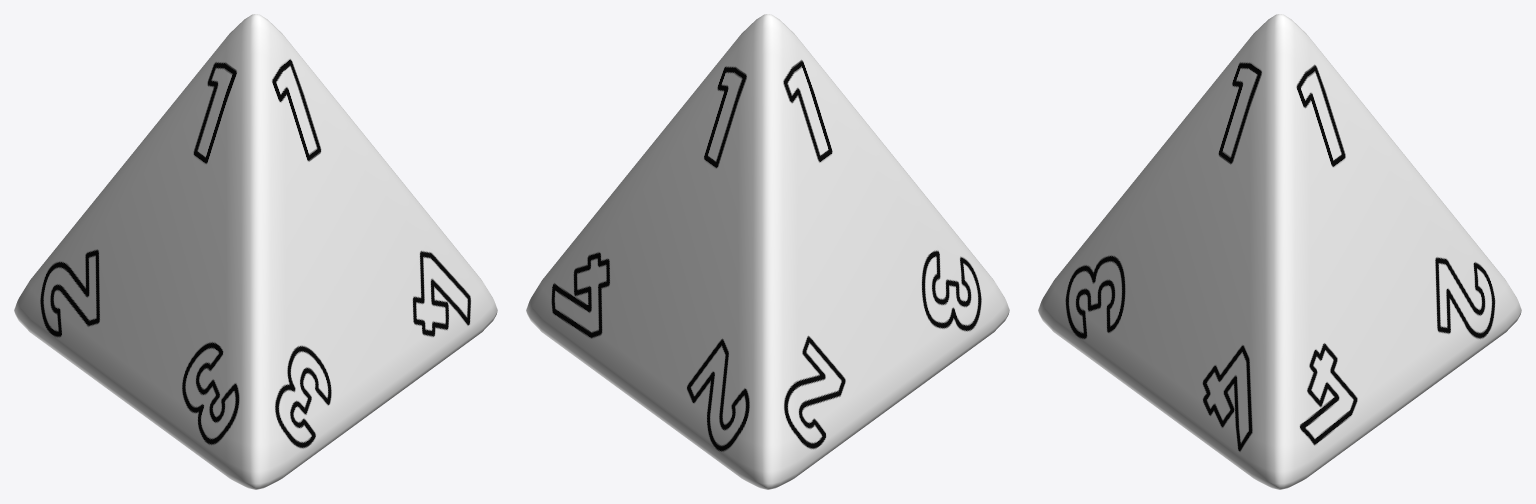
3 views of the same model, side by side, from view 1: azimuth 30°, elevation 25°; view 2: azimuth 150°, elevation 25°; view 3: azimuth 270°, elevation 25° (orthographic).
Parts seen in each view (by area): view 1: Solid.001; view 2: Solid.001; view 3: Solid.001.
Part boxes in pixels (<box>): Solid.001: <box>14,14,497,489</box>; Solid.001: <box>526,14,1009,489</box>; Solid.001: <box>1038,14,1521,489</box>.
Bounding box in the file's own units: 1.43 × 1.37 × 1.63.
1 material, 1 textured.
